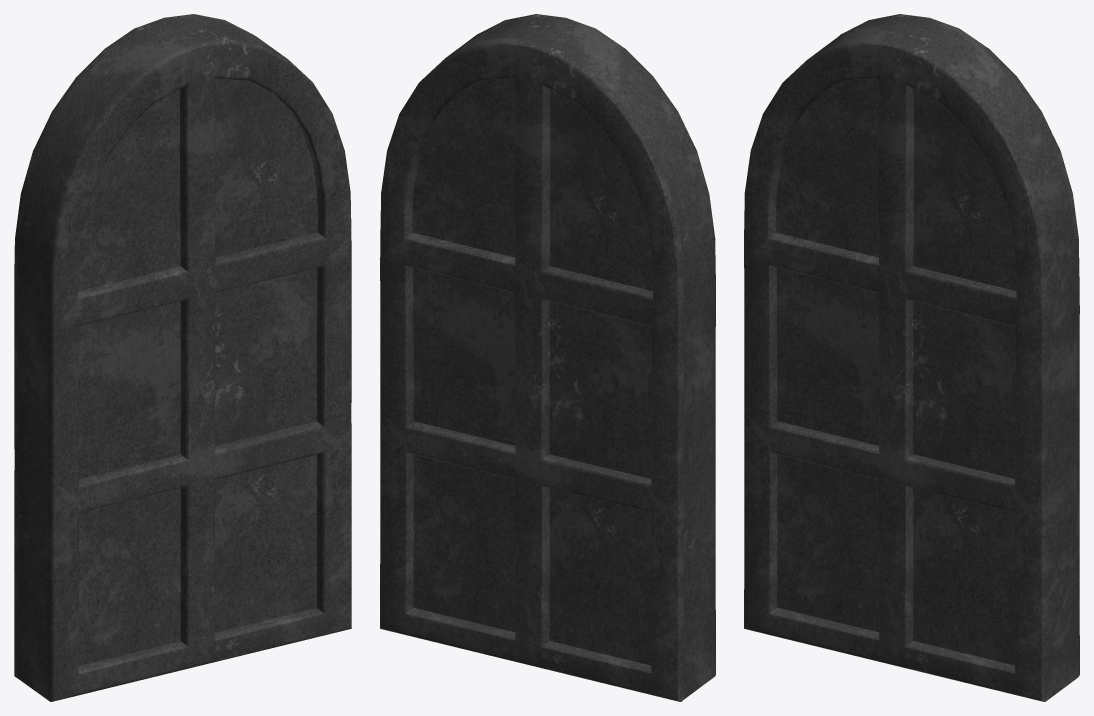
File: tunnel inside door.fbx
3 renders of one model, left to right at view 1: azimuth 30°, elevation 25°; view 2: azimuth 150°, elevation 25°; view 3: azimuth 330°, elevation 25°, orthographic.
Visible parts, largest first — view 1: tunnel inside door; view 2: tunnel inside door; view 3: tunnel inside door.
Part boxes in pixels (bbox=[...]): tunnel inside door: bbox=[14, 14, 351, 701]; tunnel inside door: bbox=[380, 14, 715, 701]; tunnel inside door: bbox=[744, 14, 1079, 701].
Bounding box in the file's own units: 102 × 22.87 × 201.
